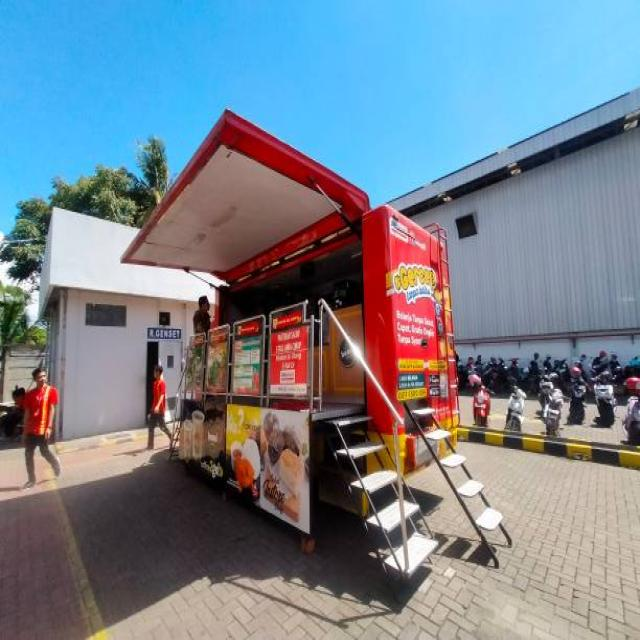Emperan: (110, 92, 517, 608)
